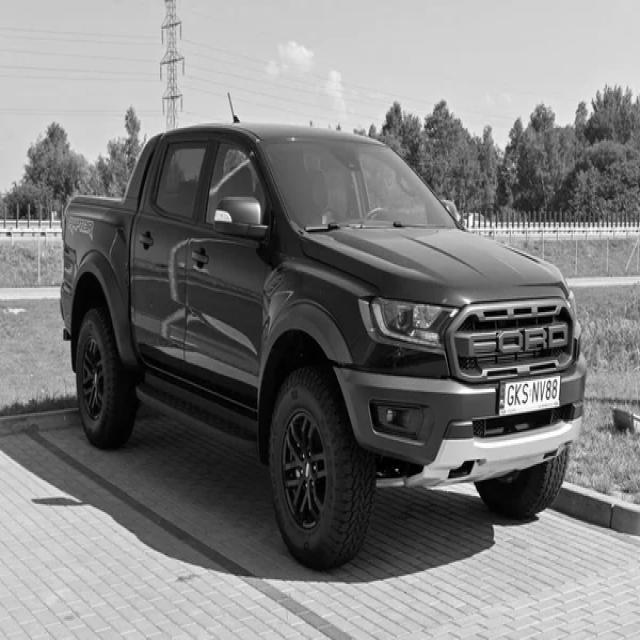Car: (60, 120, 588, 569)
